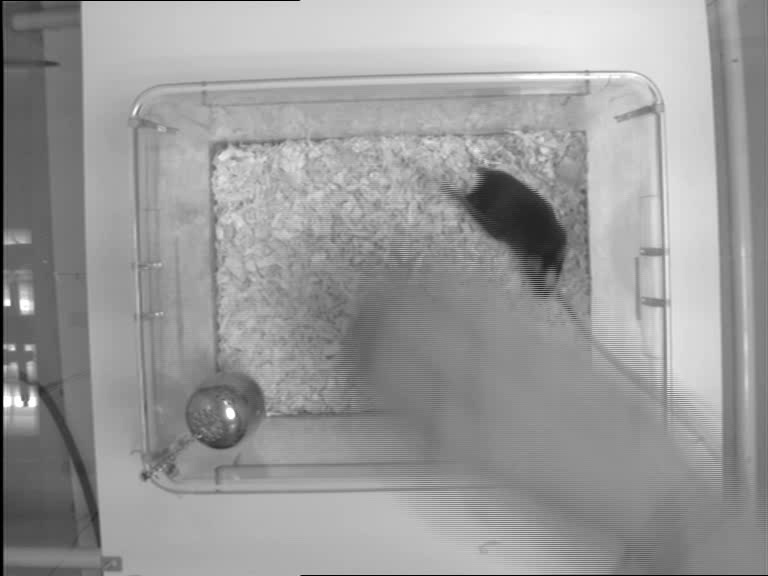mice: (416, 150, 566, 298)
